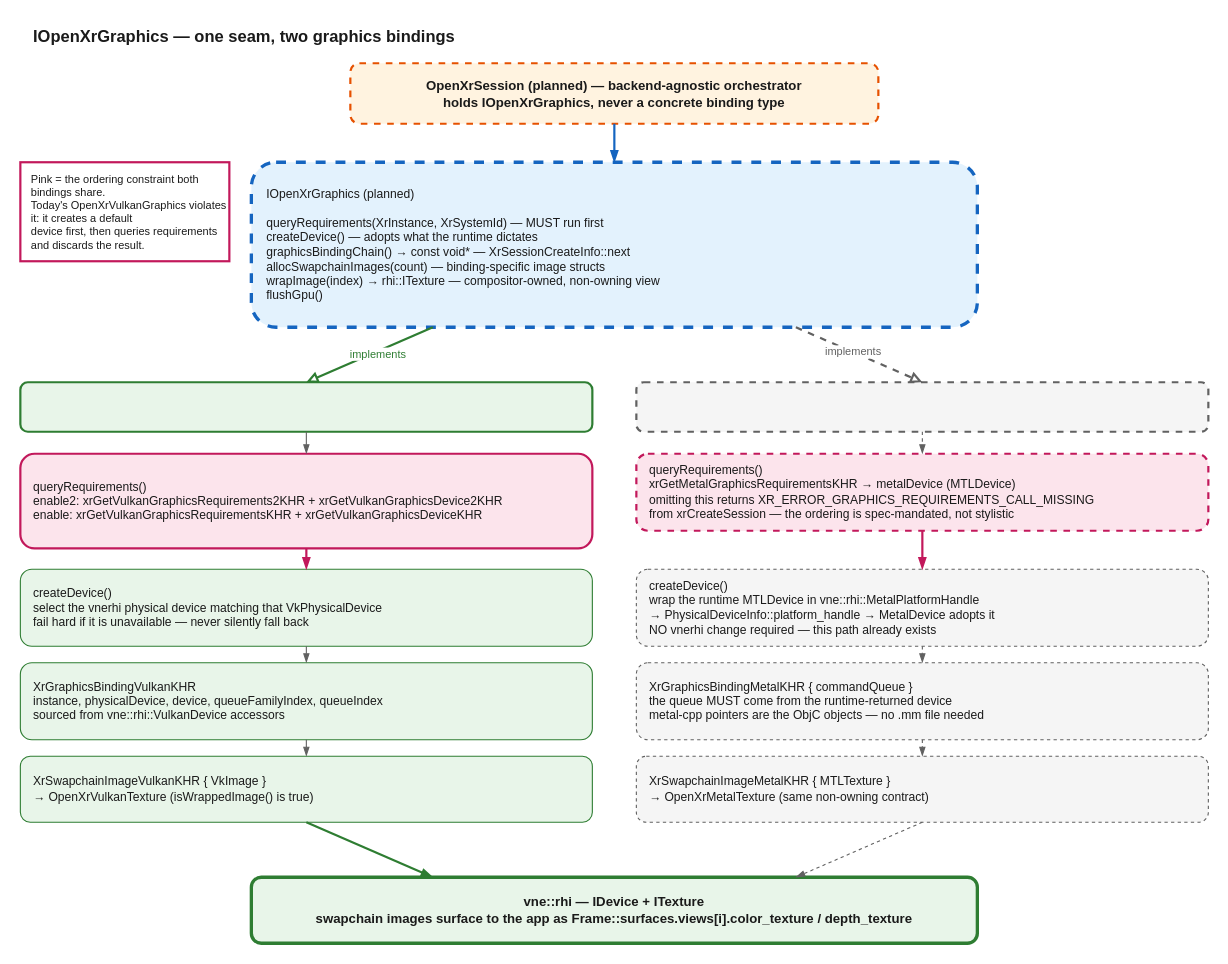
Image size: 1228x964. Some labels were removed from this diagram. The centre of each missing label's shape, as x and y in pixels:
"OpenXrMetalGraphics — Apple, via embedded runtime (designed, not built)" belongs at point 922,406.
"OpenXrVulkanGraphics — Android / Windows / Linux / macOS via MoltenVK" belongs at point 306,406.
